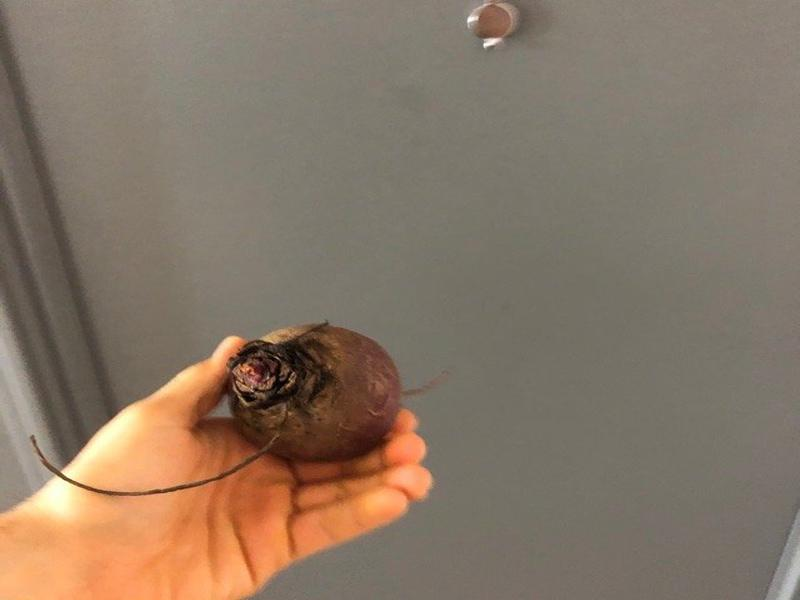Beet: (32, 324, 449, 498)
